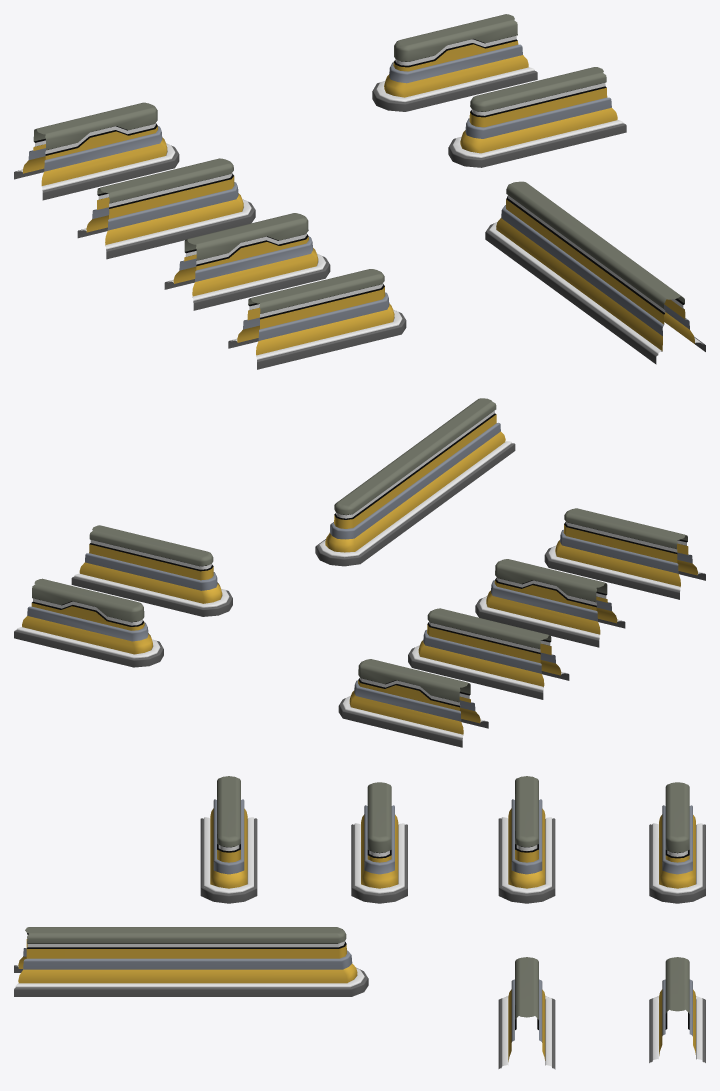
Rendered from Level8_Small_walls.fbx.
3 views of the same model, one above another, from view 1: azimuth 30°, elevation 25°; view 2: azimuth 150°, elevation 25°; view 3: azimuth 270°, elevation 25° (orthographic). The views are drawn at different scales.
Visible parts, largest first — view 1: Small_wallv2_3, Small_wallv2_, Small_wallv2_5, Small_wallv2_4, Small_wallv1_, Small_wallv1_8, Small_wallv1_7; view 2: Small_wallv2_3, Small_wallv2_, Small_wallv2_4, Small_wallv2_5, Small_wallv1_, Small_wallv1_7, Small_wallv1_8; view 3: Small_wallv2_3, Small_wallv2_5, Small_wallv2_4, Small_wallv1_8, Small_wallv1_7, Small_wallv2_, Small_wallv1_.
Part boxes in pixels (x1,y1,x2,y2): Small_wallv2_3: [485, 181, 705, 364]; Small_wallv2_: [448, 67, 626, 167]; Small_wallv2_5: [228, 269, 406, 369]; Small_wallv2_4: [77, 158, 255, 259]; Small_wallv1_: [372, 14, 537, 111]; Small_wallv1_8: [164, 213, 330, 310]; Small_wallv1_7: [14, 102, 179, 200]; Small_wallv2_3: [315, 398, 515, 566]; Small_wallv2_: [71, 525, 232, 616]; Small_wallv2_4: [408, 608, 569, 699]; Small_wallv2_5: [544, 508, 705, 599]; Small_wallv1_: [14, 578, 163, 667]; Small_wallv1_7: [338, 659, 488, 747]; Small_wallv1_8: [475, 559, 625, 647]; Small_wallv2_3: [14, 927, 368, 996]; Small_wallv2_5: [200, 776, 257, 903]; Small_wallv2_4: [498, 776, 555, 903]; Small_wallv1_8: [351, 782, 407, 903]; Small_wallv1_7: [649, 782, 705, 903]; Small_wallv2_: [498, 957, 555, 1069]; Small_wallv1_: [649, 957, 705, 1062].
Bounding box in the file's own units: 360 × 37.08 × 419.
